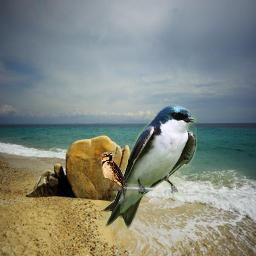Swallow: (101, 104, 197, 229), (101, 152, 126, 200)
